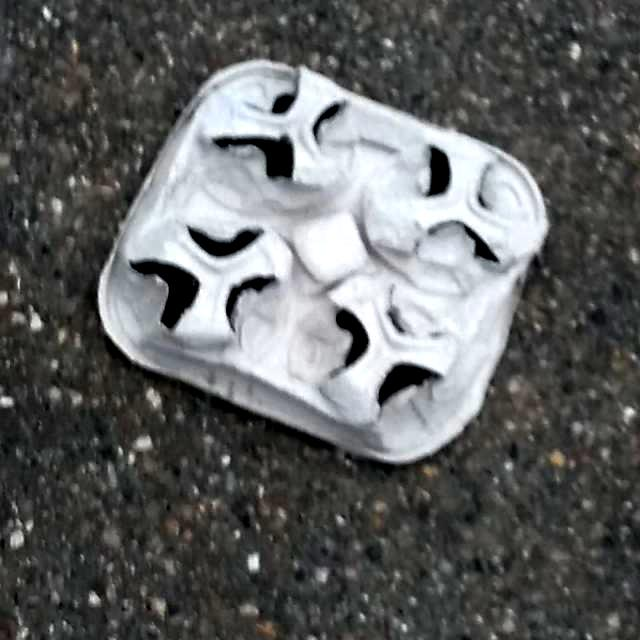Paper: (94, 56, 552, 472)
